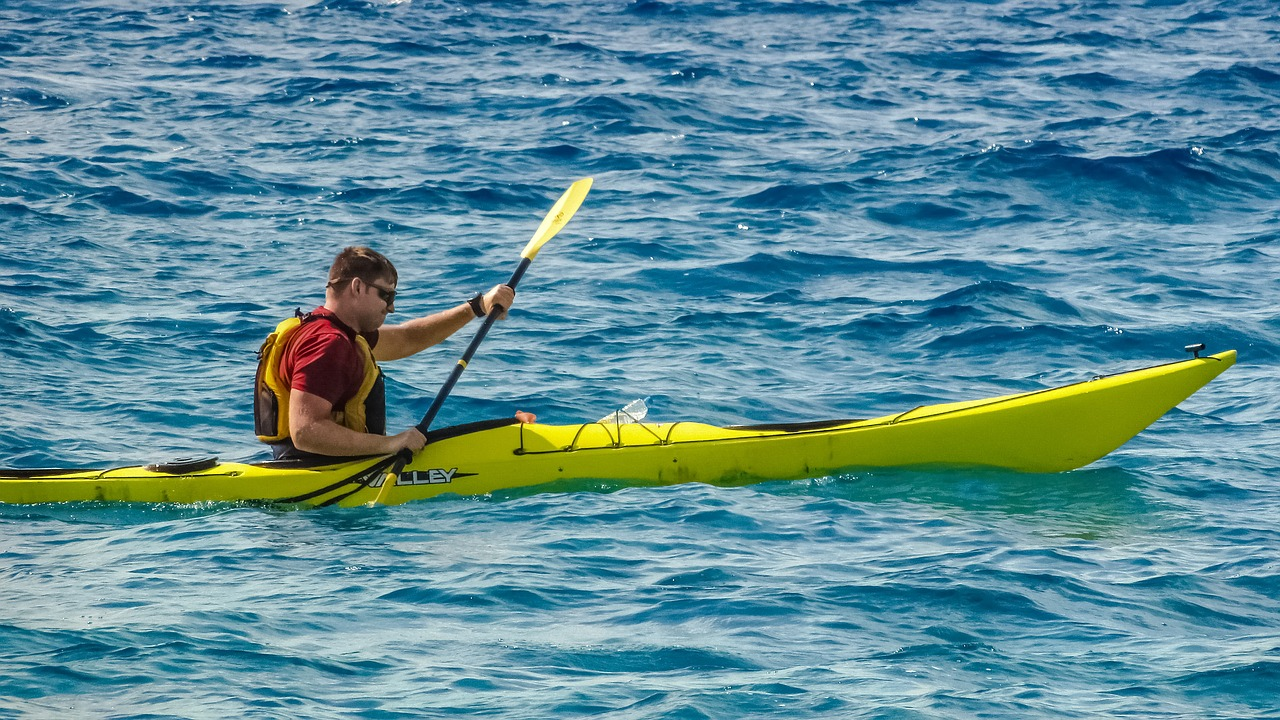kayak: (1, 344, 1239, 520)
